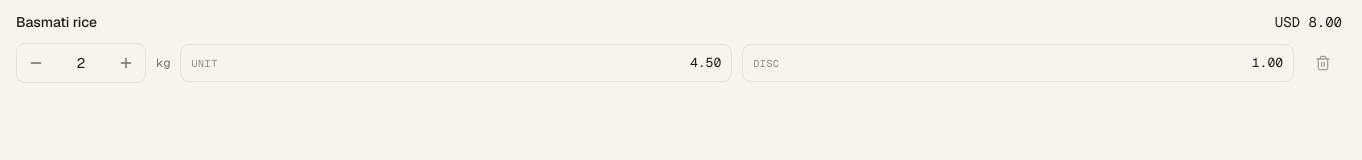
Test: CartLineRow — price and discount › clearing the discount box is not a request for a zero discount
Clear the field named "discount on" at (1035, 63), box [788,53,1283,73]
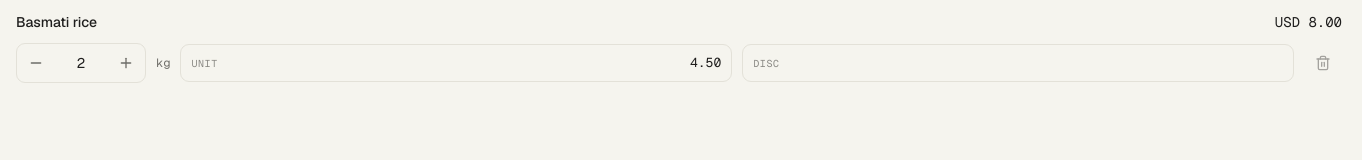
Press Tab
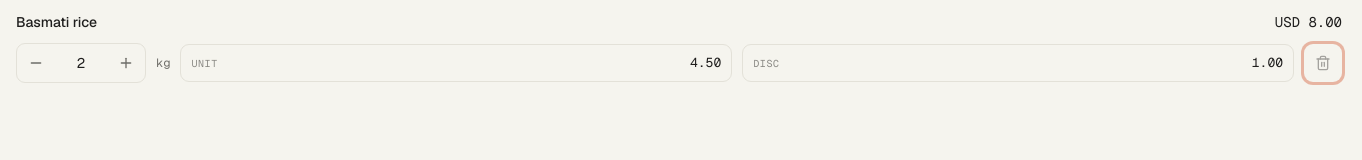
expect the field named "discount on" holds "1.00": met, box [788,53,1283,73]
